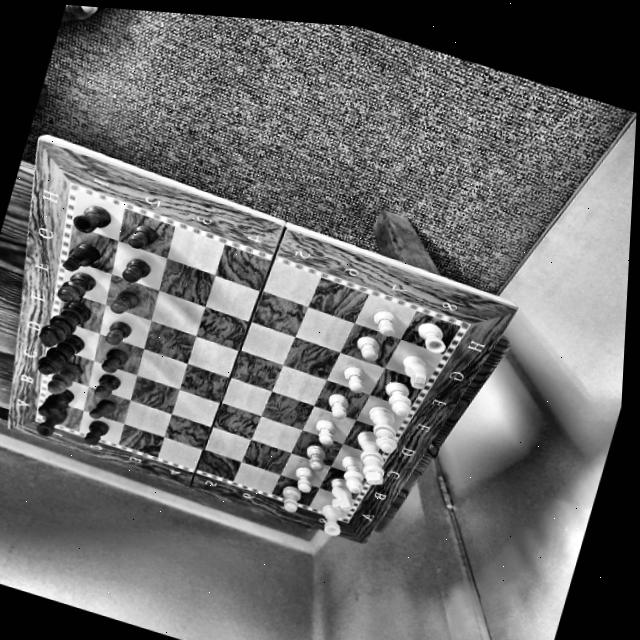black-bishop: (48, 262, 102, 311), (41, 355, 88, 403)
black-king: (33, 291, 97, 360)
black-knight: (56, 235, 106, 280), (34, 379, 81, 426)
black-pawn: (121, 217, 165, 257), (116, 251, 158, 291), (105, 284, 144, 321), (99, 314, 137, 351), (97, 343, 132, 379), (90, 369, 124, 403), (85, 393, 120, 426), (80, 417, 114, 450)
black-queen: (33, 324, 90, 385)
black-rook: (67, 196, 117, 241), (31, 401, 72, 443)
white-bishop: (375, 374, 423, 422), (333, 450, 376, 499)
white-king: (342, 425, 400, 491)
white-knight: (320, 472, 363, 518), (394, 350, 436, 394)
white-pawn: (348, 328, 389, 367), (336, 360, 377, 399), (366, 302, 406, 341), (272, 480, 309, 521), (319, 388, 358, 423), (308, 414, 344, 451), (297, 439, 333, 475), (290, 466, 322, 498)
white-queen: (355, 401, 413, 459)
white-rook: (409, 315, 455, 359), (312, 499, 352, 541)
